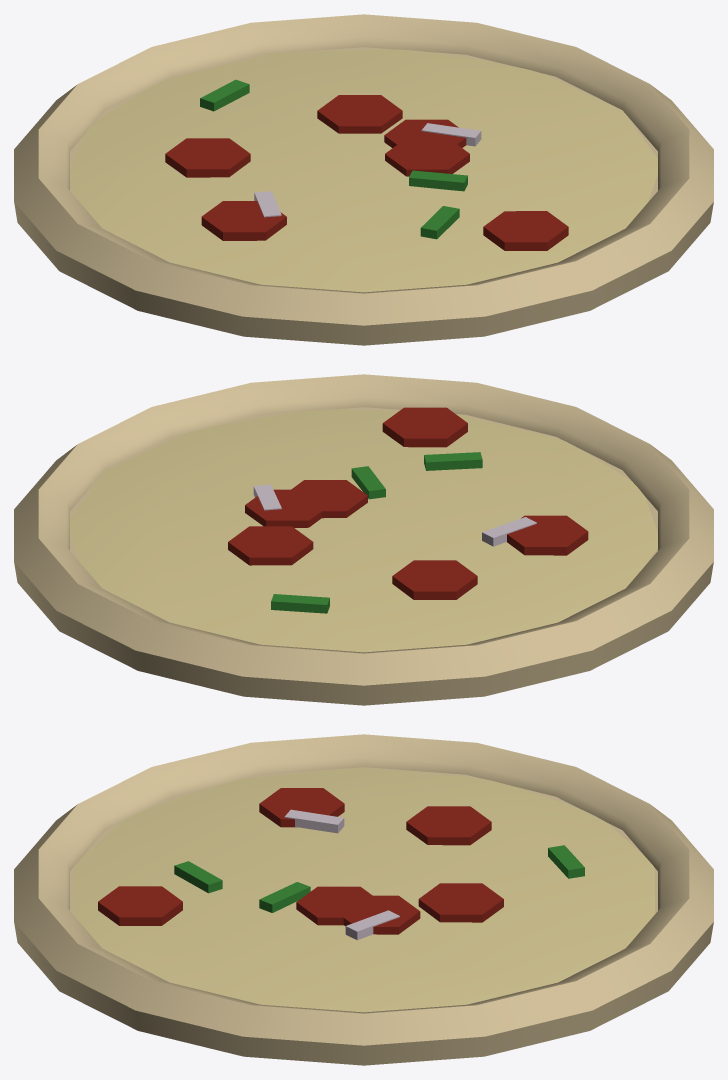
File: pizza-raw.glb
The picture shows the model from 3 angles, top to bottom: view 1: azimuth 30°, elevation 25°; view 2: azimuth 150°, elevation 25°; view 3: azimuth 270°, elevation 25°; orthographic projection.
Visible parts, largest first — view 1: BODY; view 2: BODY; view 3: BODY.
Boxes of the visible parts, left/top/right/bottom form: BODY: left=14, top=14, right=713, bottom=345; BODY: left=14, top=374, right=713, bottom=705; BODY: left=14, top=734, right=713, bottom=1065.
Size of the model in its own units: 0.3 by 0.02 by 0.2955.
